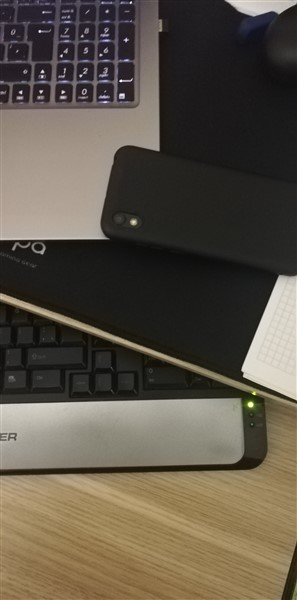telefon: (97, 141, 297, 277)
